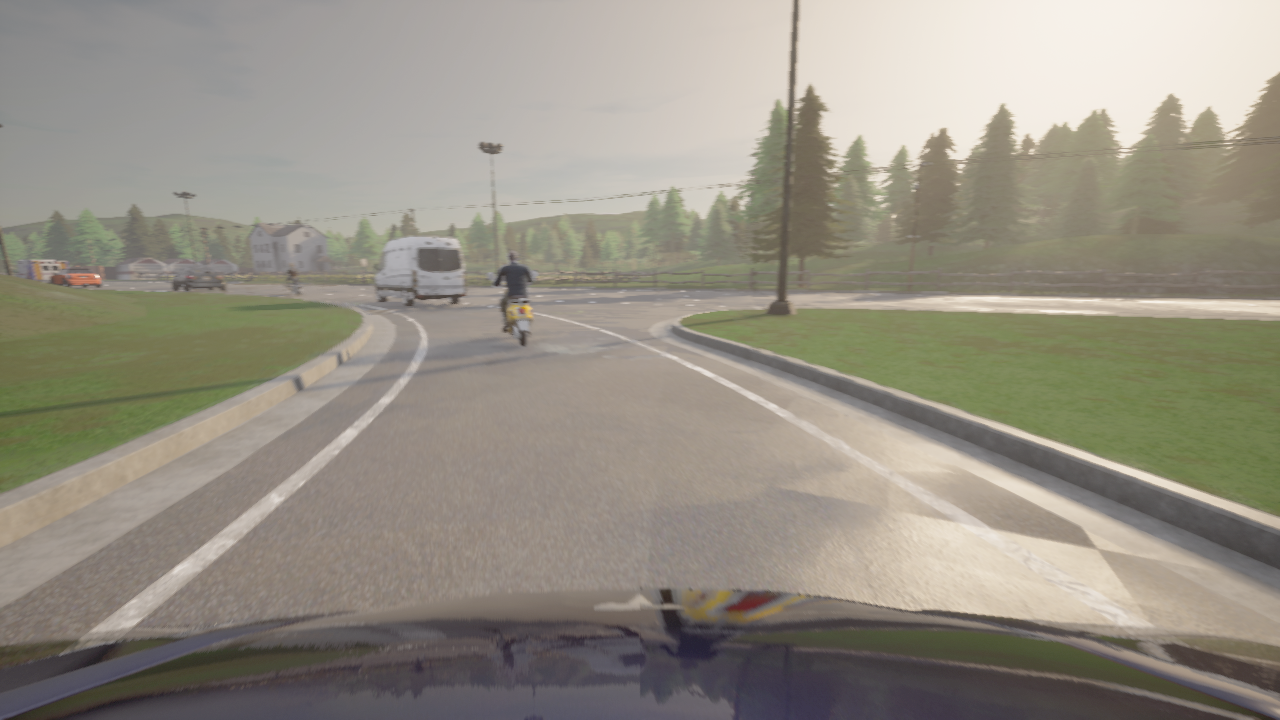cyclist: (0, 588, 1279, 719), (373, 235, 466, 306), (488, 271, 536, 346), (12, 260, 68, 283), (172, 267, 225, 291), (50, 267, 100, 287), (284, 281, 300, 295)
